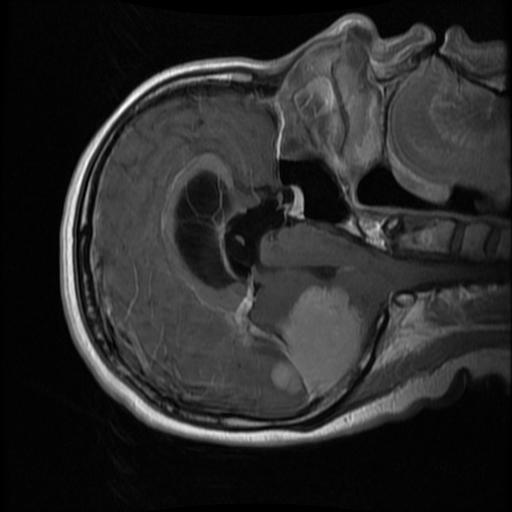meningioma: (280, 285, 367, 397)
